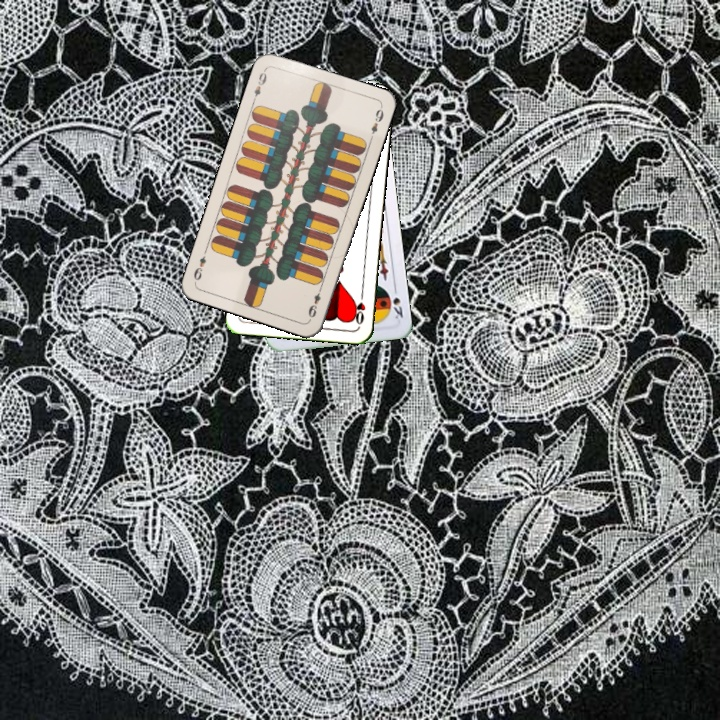E9: (249, 65, 269, 105), (304, 282, 325, 320)
HO: (350, 287, 368, 327)
SK: (389, 282, 405, 322)
